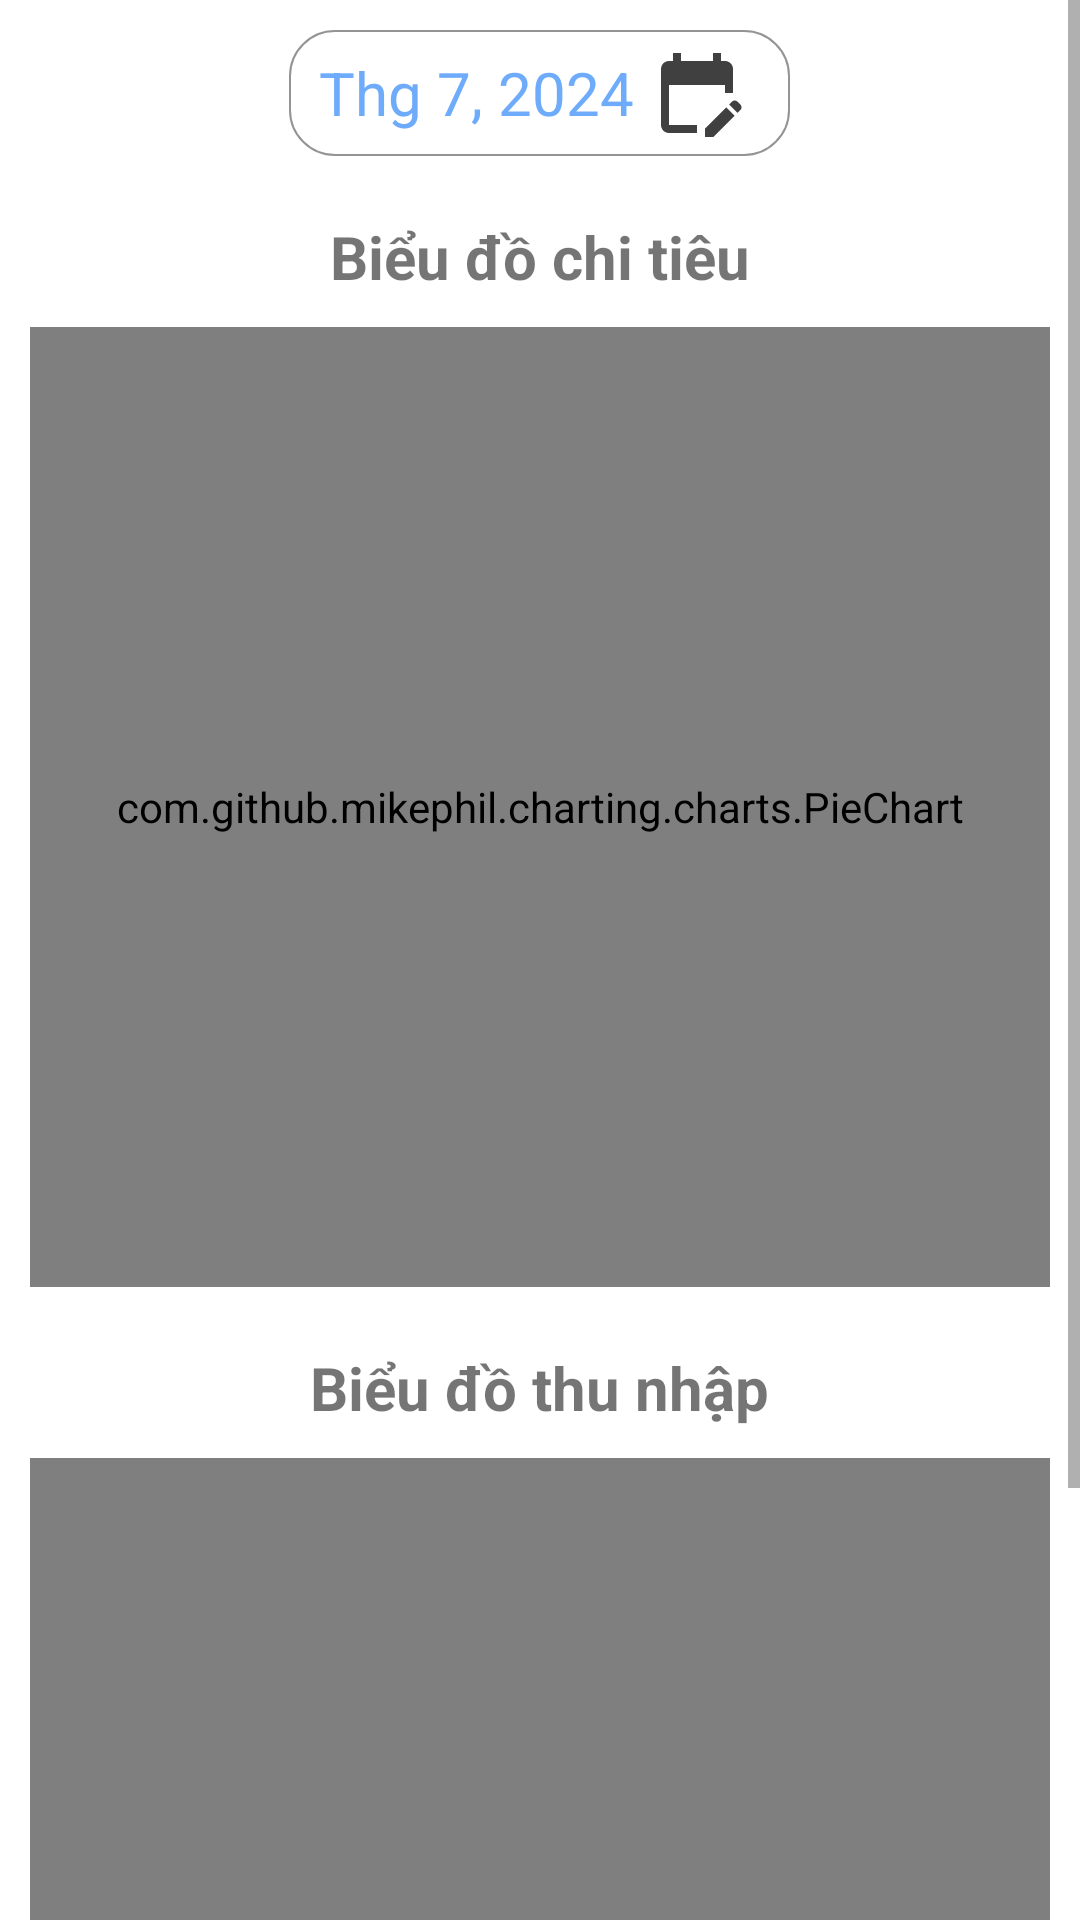

Icon click points for this 1080×1920 phone screenshot, format [x,y]:
edit calendar: [701,95]
